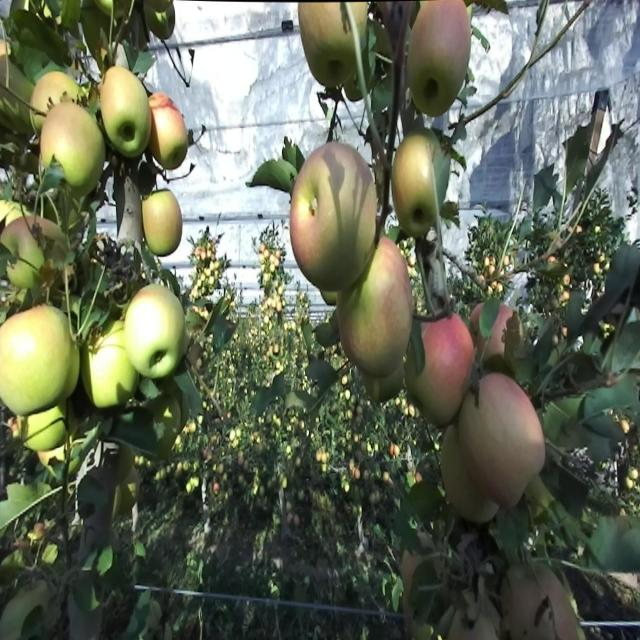apple: (336, 234, 416, 382), (0, 305, 81, 414), (404, 0, 472, 121), (416, 312, 476, 432), (44, 106, 112, 201), (82, 312, 144, 412), (124, 284, 187, 377), (424, 312, 476, 412), (392, 134, 439, 242), (0, 312, 48, 412), (100, 70, 147, 162), (84, 333, 136, 412), (64, 106, 107, 199), (396, 134, 436, 213), (148, 99, 191, 172), (144, 191, 184, 261), (32, 70, 75, 133), (504, 568, 543, 636), (0, 214, 34, 290), (40, 113, 78, 181), (484, 305, 525, 368), (24, 399, 68, 455), (364, 362, 404, 409), (116, 468, 141, 521), (144, 6, 176, 43), (156, 390, 180, 428), (4, 42, 10, 62)
